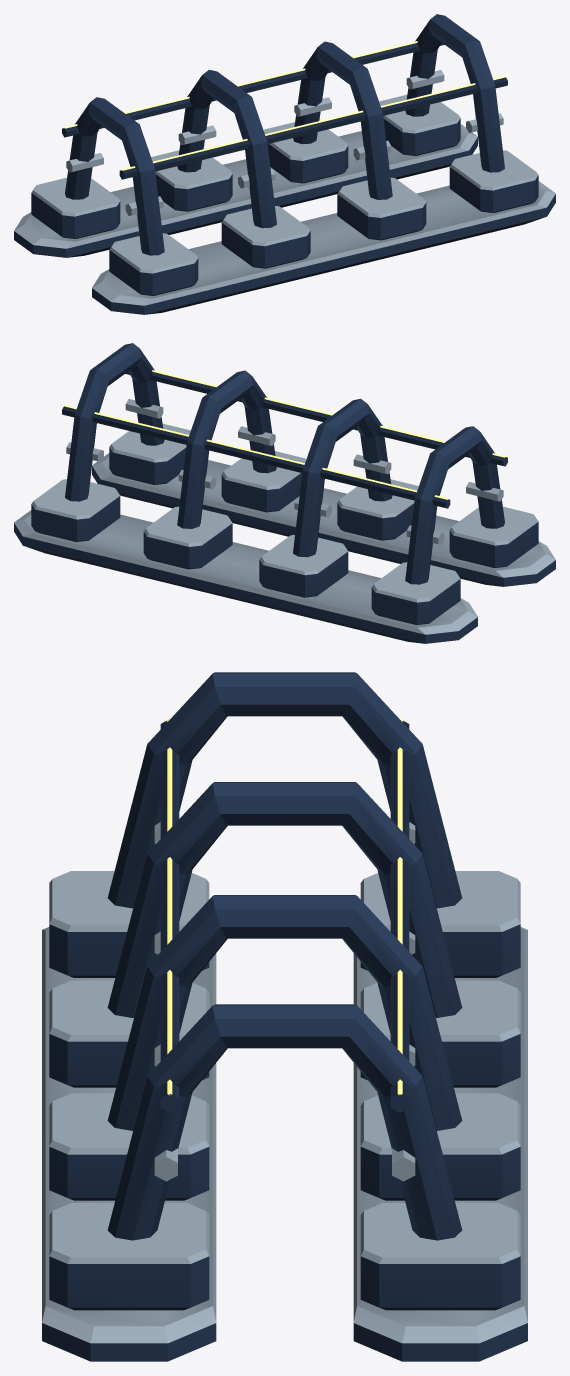
The model's file is shipyard-graving-dock.glb.
3 views of the same model, one above another, from view 1: azimuth 30°, elevation 25°; view 2: azimuth 150°, elevation 25°; view 3: azimuth 270°, elevation 25° (orthographic). The views are drawn at different scales.
Visible parts, largest first — view 1: shipyard-graving-dock; view 2: shipyard-graving-dock; view 3: shipyard-graving-dock.
Boxes of the visible parts, x1,y1,x2,y2 form: shipyard-graving-dock: (14,14,555,314); shipyard-graving-dock: (14,343,555,643); shipyard-graving-dock: (42,672,527,1361).
Size of the model in its own units: 14.38 by 4.84 by 6.8.
